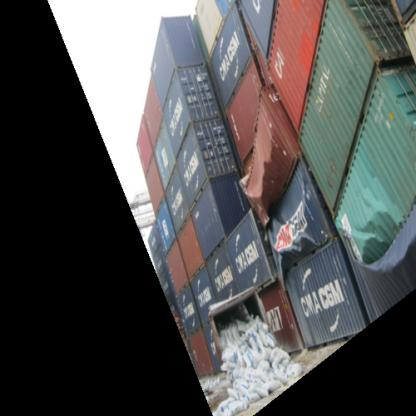Damage: (197, 289, 281, 377), (344, 180, 415, 277), (238, 110, 286, 204), (258, 211, 323, 275)
